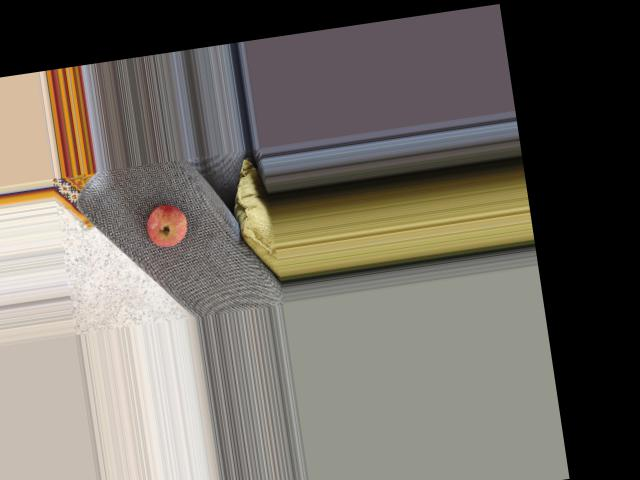apple: (141, 196, 195, 247)
